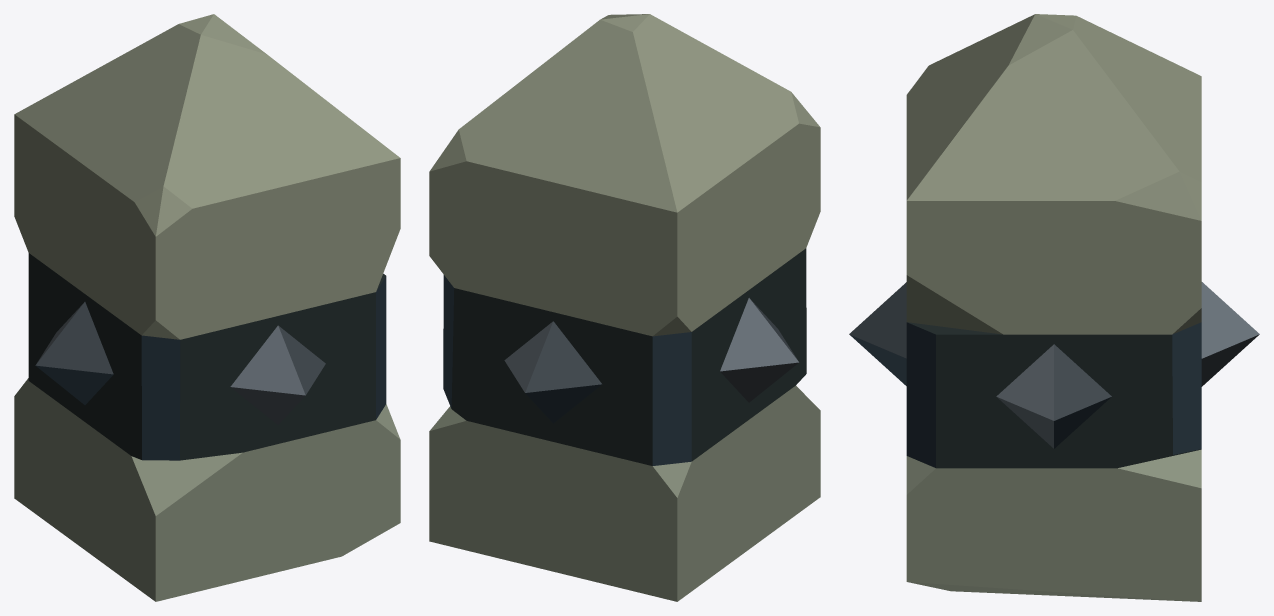
Rendered from wall_paneling_corner_2.fbx.
3 renders of one model, left to right at view 1: azimuth 30°, elevation 25°; view 2: azimuth 150°, elevation 25°; view 3: azimuth 270°, elevation 25°, orthographic. The views are drawn at different scales.
Parts seen in each view (by area): view 1: wall_paneling_corner_2; view 2: wall_paneling_corner_2; view 3: wall_paneling_corner_2.
Boxes of the visible parts, x1,y1,x2,y2 form: wall_paneling_corner_2: (14, 14, 400, 601); wall_paneling_corner_2: (429, 14, 820, 601); wall_paneling_corner_2: (849, 14, 1259, 601).
Size of the model in its own units: 69.97 by 96.81 by 69.65.
